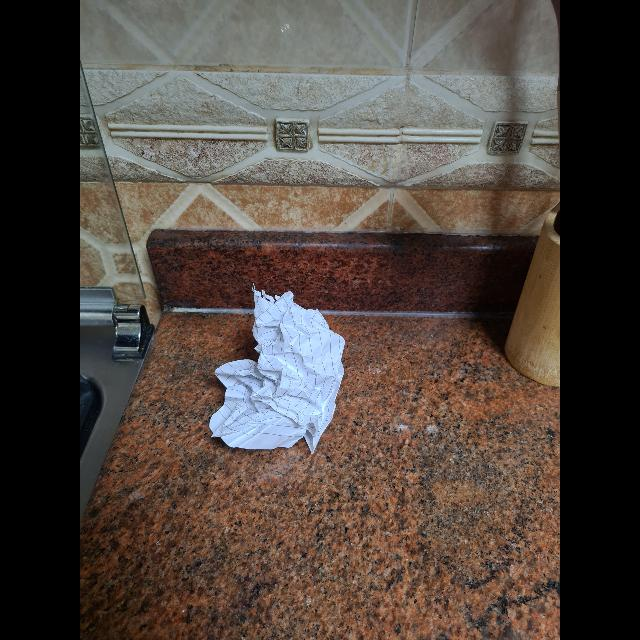scrap_paper: (208, 288, 352, 452)
